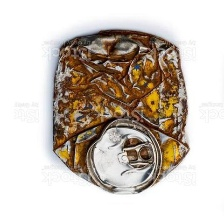can: (47, 24, 193, 197)
